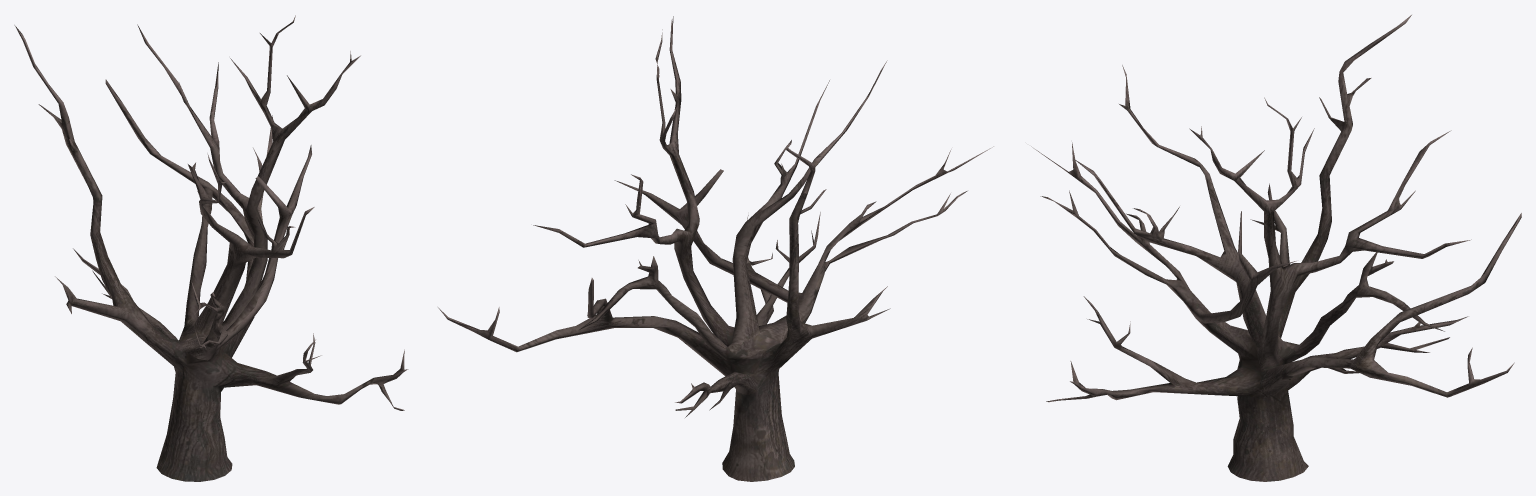
File: arbol_seco.glb
The picture shows the model from 3 angles, left to right: view 1: azimuth 30°, elevation 25°; view 2: azimuth 150°, elevation 25°; view 3: azimuth 270°, elevation 25°; orthographic projection. The views are drawn at different scales.
Visible parts, largest first — view 1: Tree_lp; view 2: Tree_lp; view 3: Tree_lp.
Boxes of the visible parts, x1,y1,x2,y2 form: Tree_lp: [14, 15, 408, 481]; Tree_lp: [438, 16, 993, 481]; Tree_lp: [1031, 15, 1521, 481].
Bounding box in the file's own units: 0.6689 × 0.7954 × 0.8555.
1 material, 1 textured.
